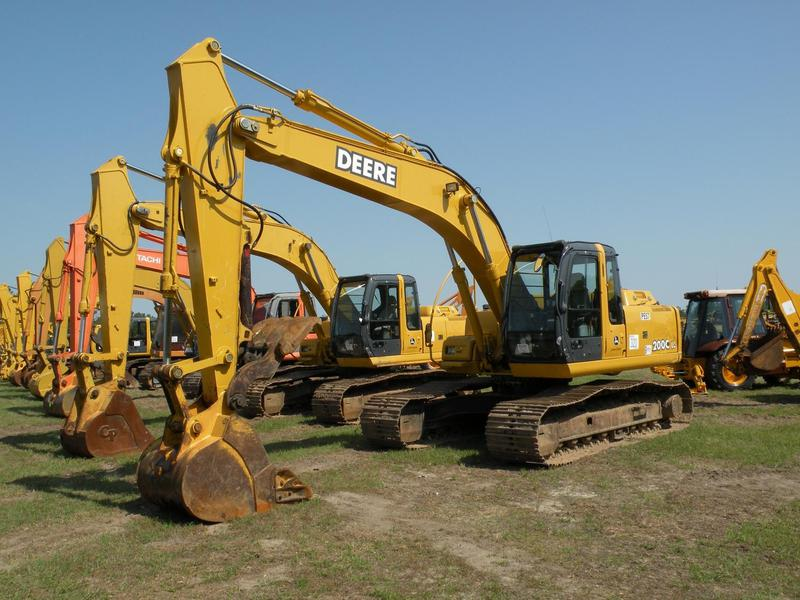shovel: (136, 33, 699, 526)
